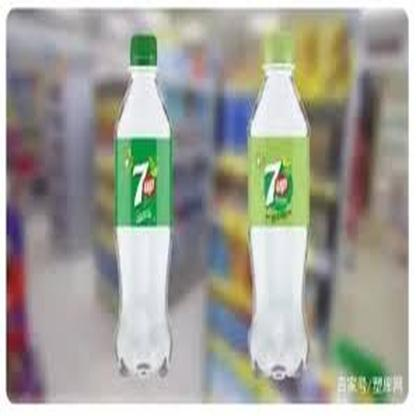plastic bottle: (247, 34, 311, 378), (115, 34, 173, 378)
